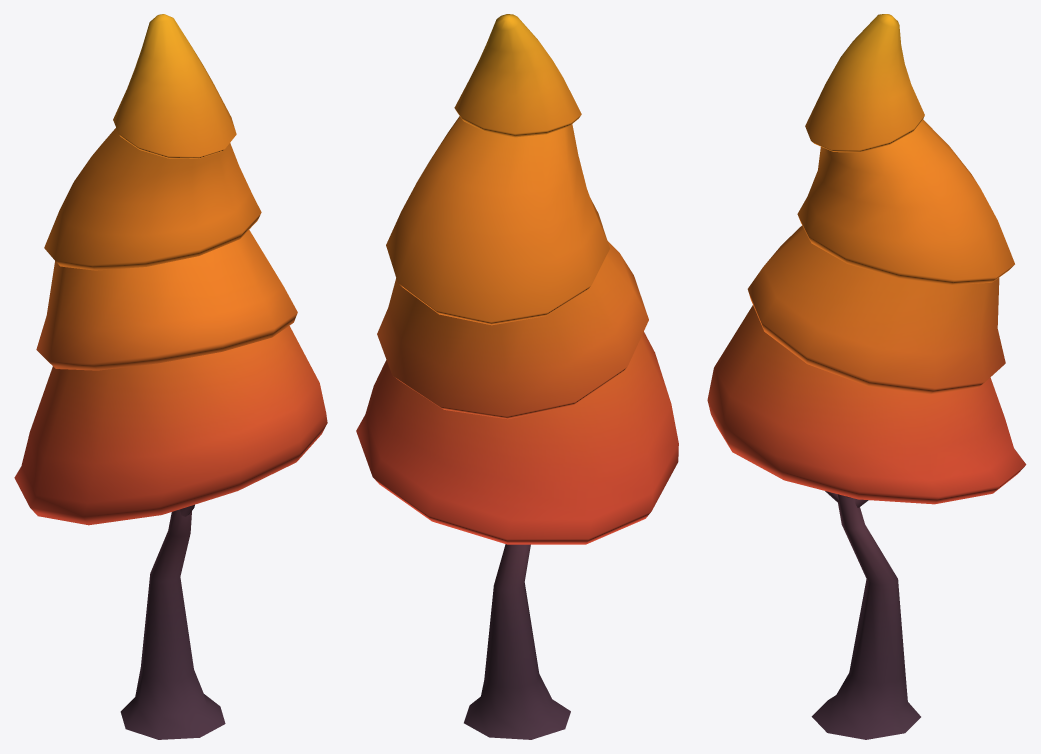
The model's file is tree_pack_14.glb.
3 views of the same model, side by side, from view 1: azimuth 30°, elevation 25°; view 2: azimuth 150°, elevation 25°; view 3: azimuth 270°, elevation 25° (orthographic).
Visible parts, largest first — view 1: Tree.014; view 2: Tree.014; view 3: Tree.014.
Boxes of the visible parts, x1,y1,x2,y2 form: Tree.014: (14, 14, 327, 739); Tree.014: (356, 14, 678, 739); Tree.014: (707, 14, 1026, 739).
Size of the model in its own units: 2.75 by 6.71 by 2.76.
Materials: 1 (1 with a texture image).
